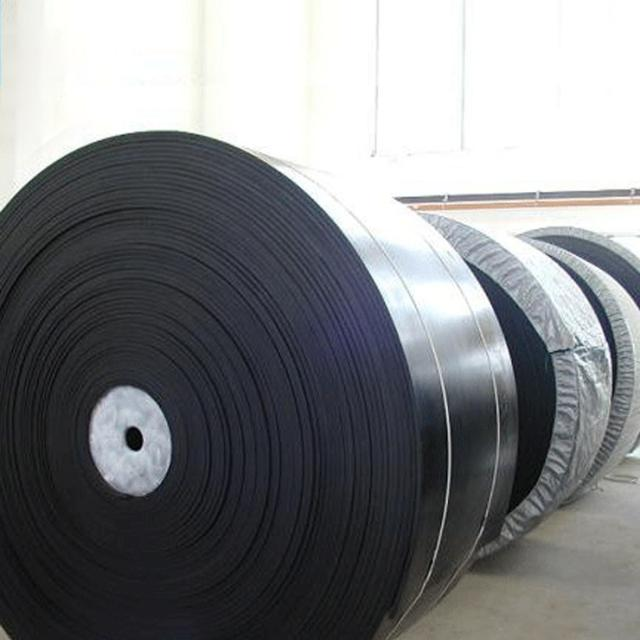conveyor: (6, 114, 528, 635)
